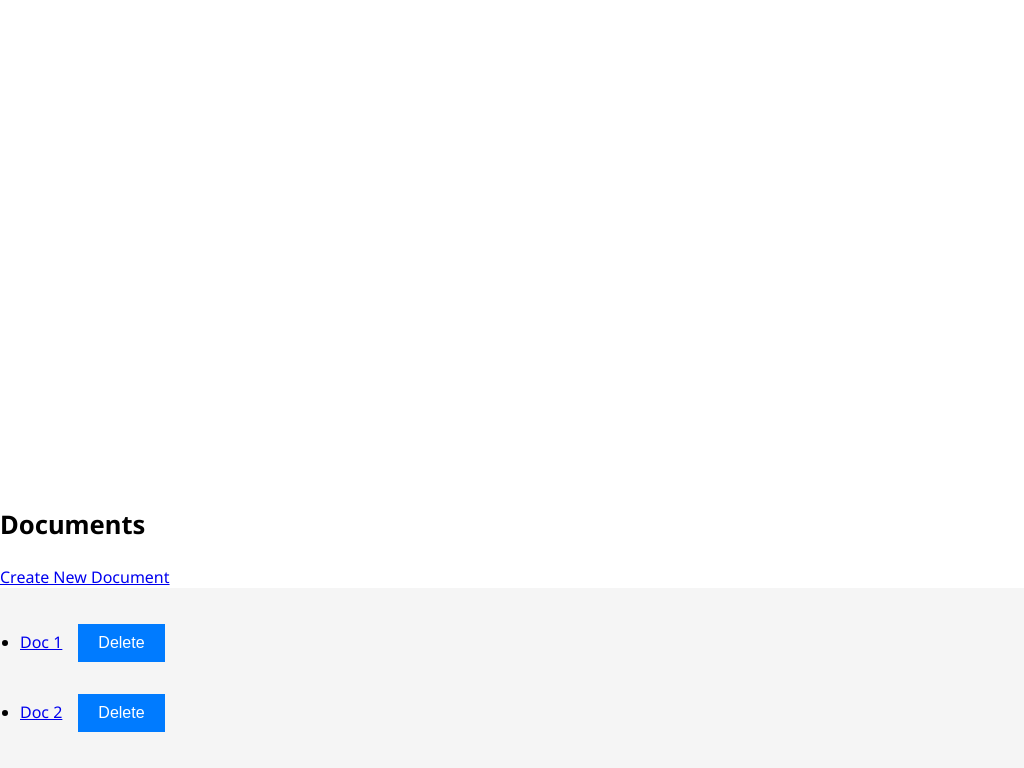
Test: renders docs and deletes
Expected: the link "Doc 1" is shown, 20,631 -> 62,653
Expected: the link "Doc 2" is shown, 20,701 -> 62,723
Click the button "Delete" next to "Doc 1". click: x=122, y=643
box: 78,624 -> 165,662
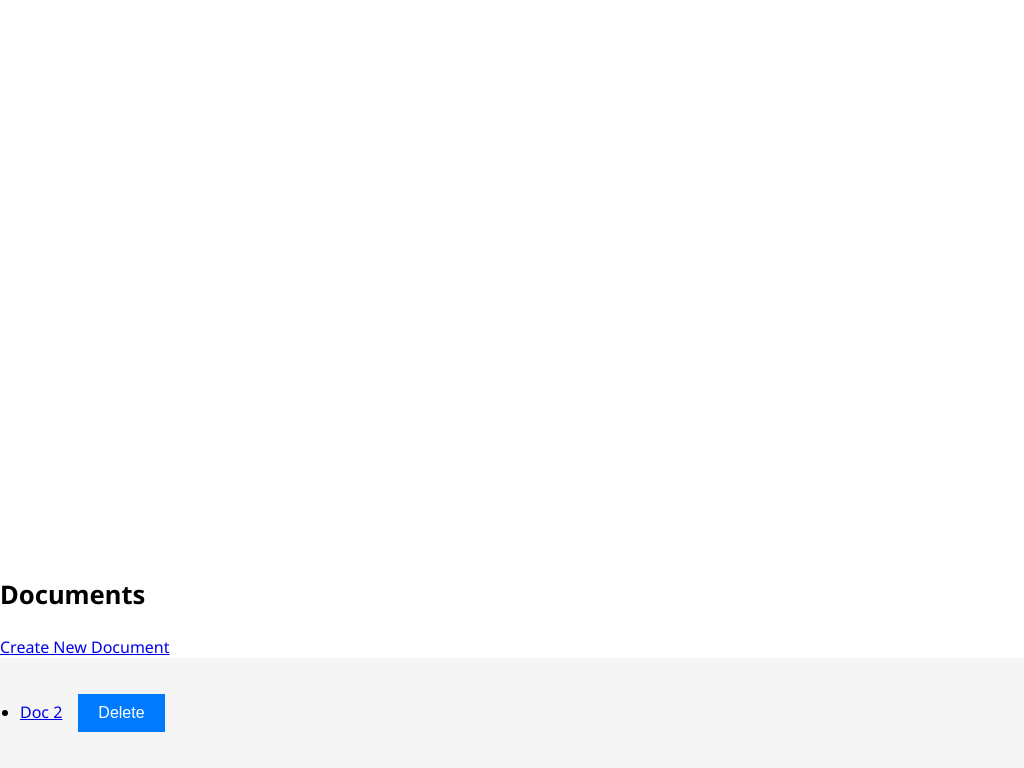
Expected: the link "Doc 2" is shown, 20,701 -> 62,723
Expected: the link "Doc 1" is gone
